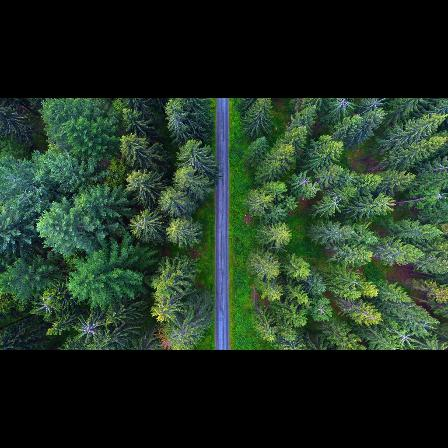Sick: (73, 314, 108, 343), (29, 288, 60, 318), (291, 167, 315, 201), (325, 189, 344, 212), (360, 98, 389, 113), (328, 98, 357, 112)
